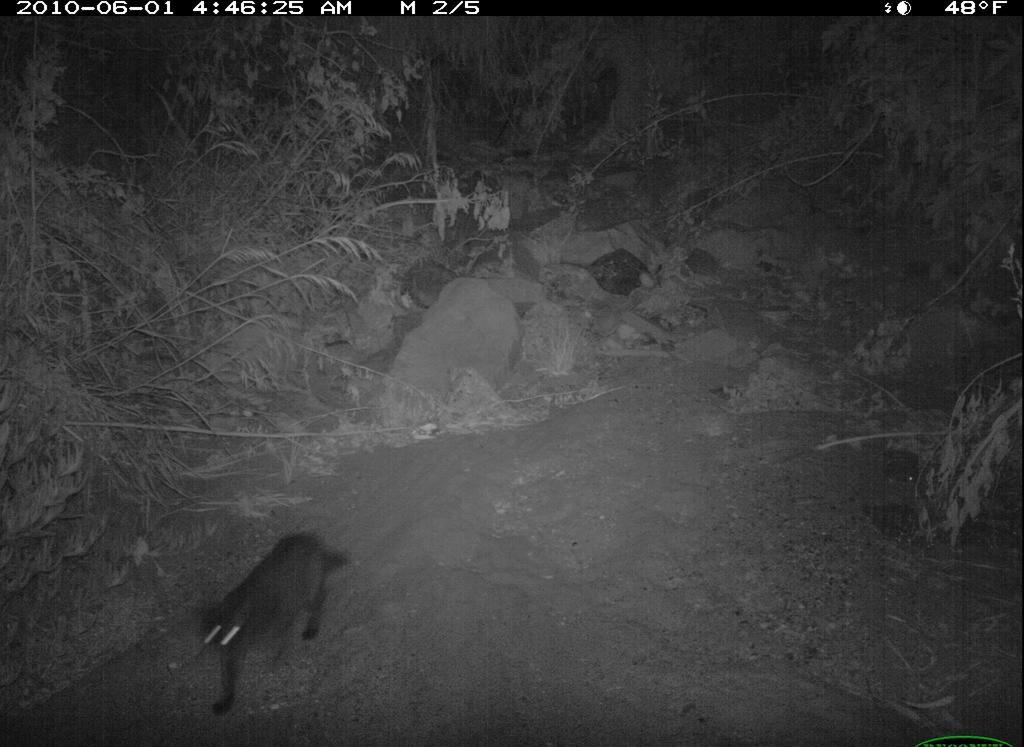cat: (180, 528, 360, 715)
